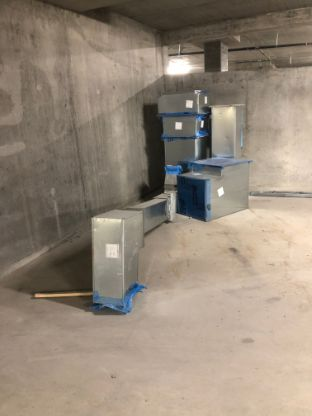Duct: (155, 88, 259, 225), (87, 186, 183, 319)
